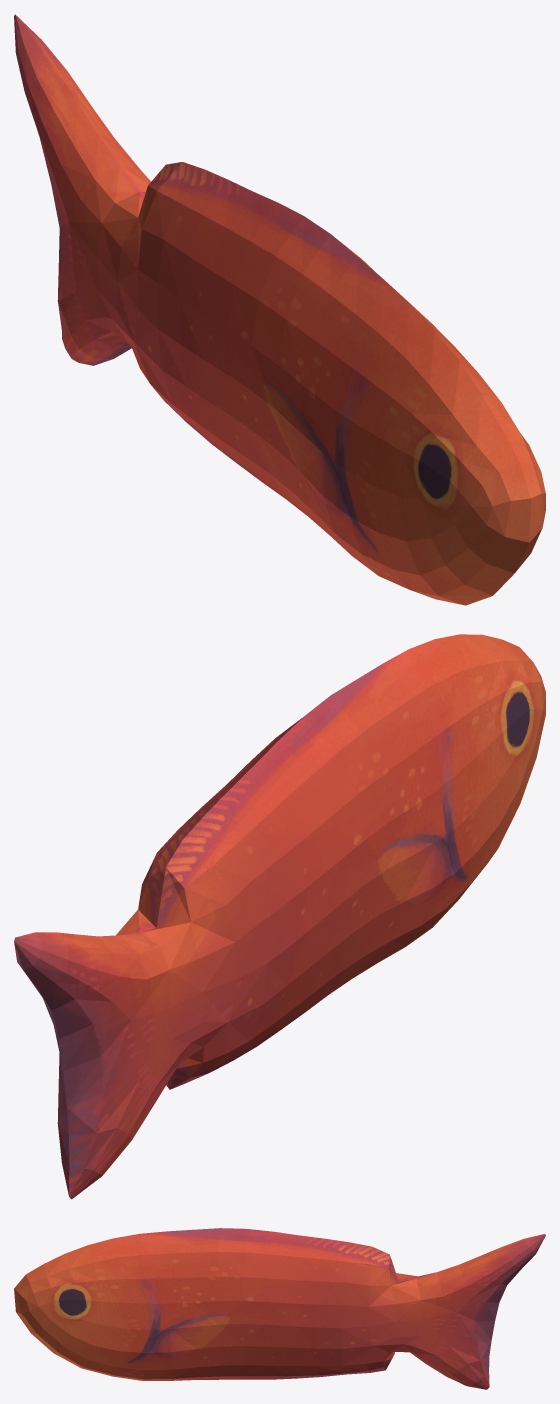
File: redfish.OBJ
3 views of the same model, one above another, from view 1: azimuth 30°, elevation 25°; view 2: azimuth 150°, elevation 25°; view 3: azimuth 270°, elevation 25° (orthographic). The views are drawn at different scales.
Parts seen in each view (by area): view 1: Group17420, Group22651; view 2: Group17420, Group22651; view 3: Group22651.
Part boxes in pixels (box(x1,y1,x2,y2)): Group17420: box(14, 14, 531, 605); Group22651: box(17, 16, 545, 572); Group17420: box(14, 634, 545, 1199); Group22651: box(14, 717, 302, 1195); Group22651: box(14, 1228, 545, 1389).
Bounding box in the file's own units: 0.2262 × 0.5912 × 1.76.
